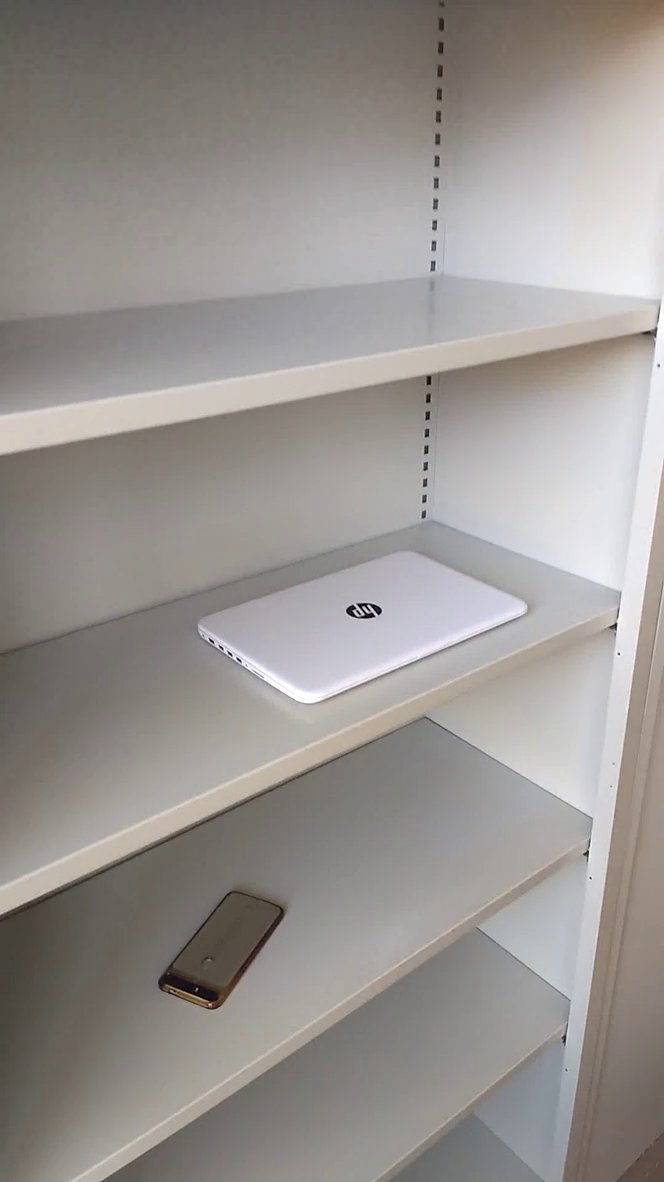laptop: (187, 539, 542, 713)
phone: (154, 875, 299, 1026)
